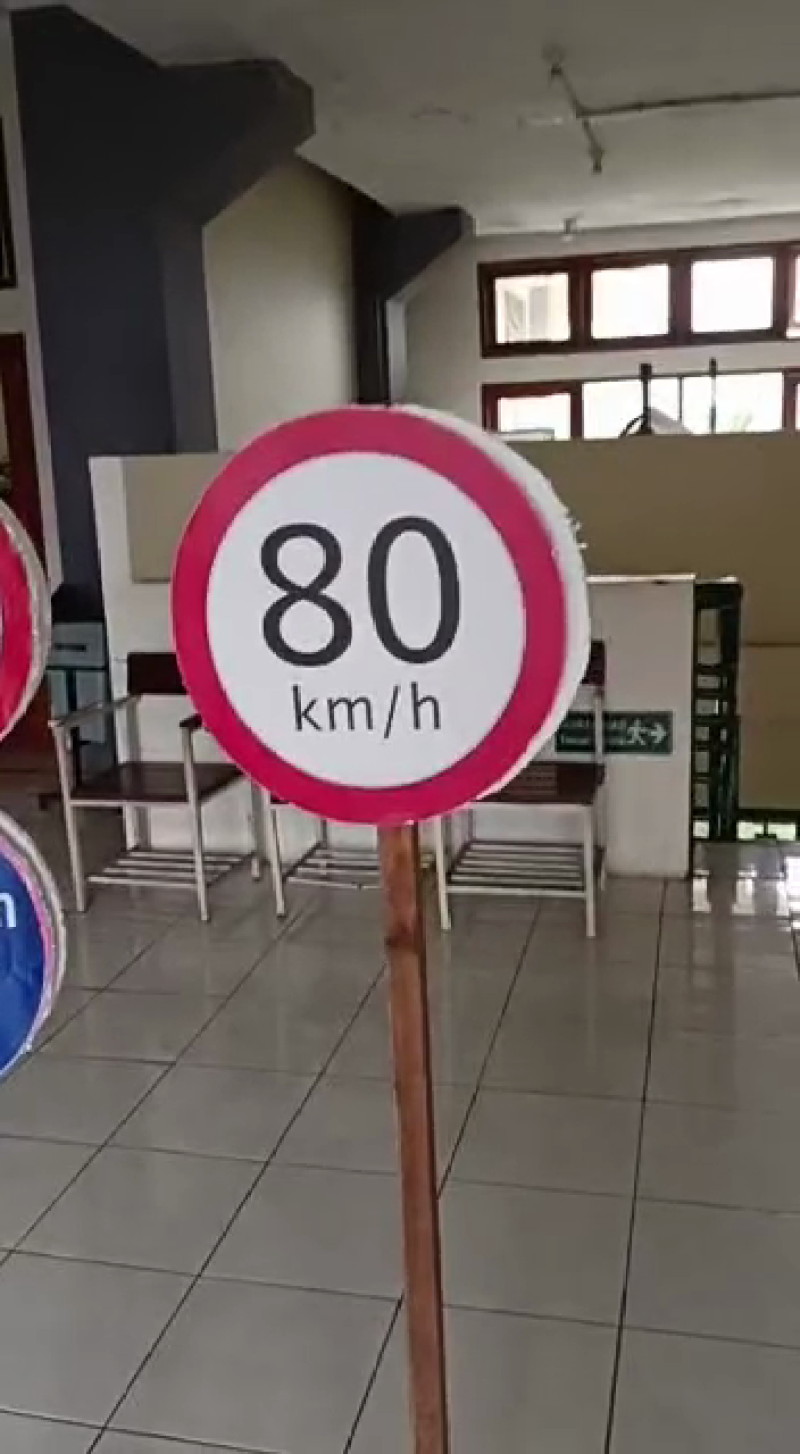batas maksimal 80kmperjam: (158, 395, 579, 840)
